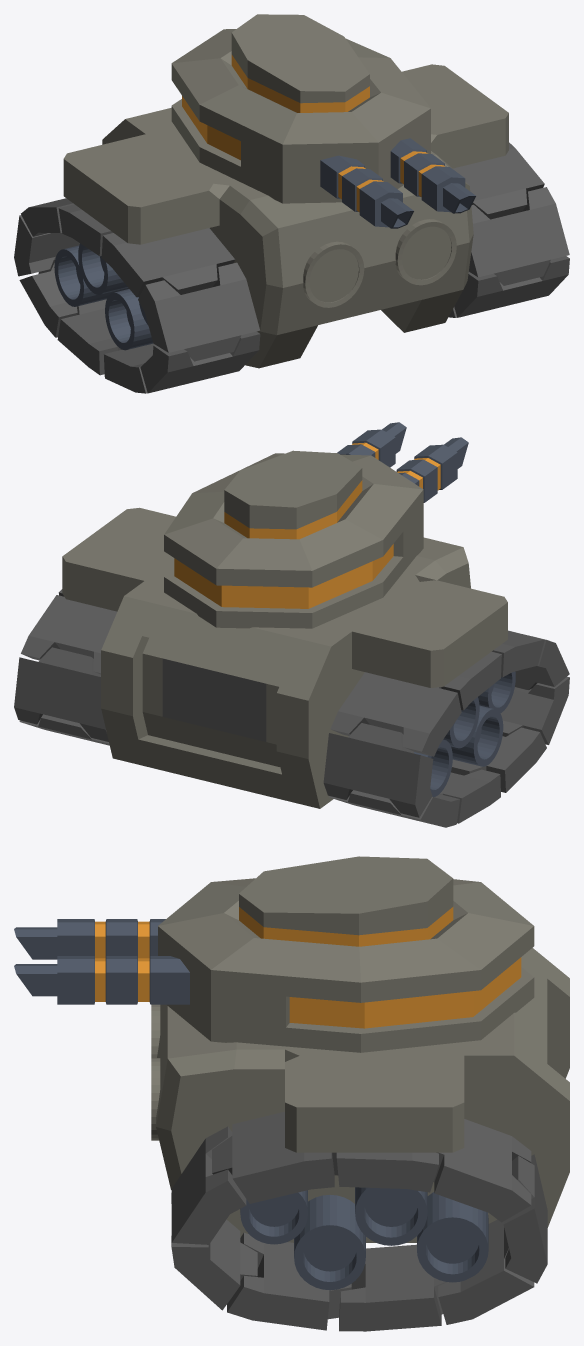
The model's file is tankLaser.fbx.
3 views of the same model, one above another, from view 1: azimuth 30°, elevation 25°; view 2: azimuth 150°, elevation 25°; view 3: azimuth 270°, elevation 25° (orthographic). The views are drawn at different scales.
Parts seen in each view (by area): view 1: tankBody, tracks, laserBody.002, lasBarrel.002, light.001, light, Cylinder.016, Cylinder.018, Cylinder.017; view 2: tankBody, tracks, laserBody.002, lasBarrel.002, Cylinder.016, Cylinder.017, Cylinder.018, Cylinder.015; view 3: laserBody.002, tankBody, tracks, lasBarrel.002, Cylinder.016, Cylinder.018, Cylinder.017, Cylinder.015, light.001.
Boxes of the visible parts, left/top/right/bottom form: tankBody: left=63, top=64, right=508, bottom=368; tracks: left=14, top=142, right=569, bottom=393; laserBody.002: left=171, top=14, right=430, bottom=203; lasBarrel.002: left=320, top=138, right=475, bottom=228; light.001: left=395, top=219, right=456, bottom=285; light: left=303, top=241, right=364, bottom=307; Cylinder.016: left=105, top=289, right=153, bottom=350; Cylinder.018: left=54, top=245, right=128, bottom=306; Cylinder.017: left=78, top=243, right=128, bottom=294; tankBody: left=62, top=507, right=507, bottom=808; tracks: left=14, top=589, right=569, bottom=827; laserBody.002: left=164, top=450, right=423, bottom=628; lasBarrel.002: left=337, top=422, right=468, bottom=502; Cylinder.016: left=451, top=705, right=503, bottom=766; Cylinder.017: left=443, top=697, right=479, bottom=748; Cylinder.018: left=414, top=739, right=452, bottom=796; Cylinder.015: left=478, top=671, right=515, bottom=713; laserBody.002: left=158, top=856, right=534, bottom=1052; tankBody: left=156, top=948, right=569, bottom=1242; tracks: left=171, top=1111, right=547, bottom=1331; lasBarrel.002: left=14, top=919, right=189, bottom=1004; Cylinder.016: left=294, top=1195, right=365, bottom=1290; Cylinder.018: left=417, top=1192, right=488, bottom=1282; Cylinder.017: left=355, top=1187, right=427, bottom=1245; Cylinder.015: left=240, top=1190, right=307, bottom=1244; light.001: left=151, top=1058, right=160, bottom=1140.
Bounding box in the file's own units: 285 × 188 × 281.
3 materials, 3 textured.
